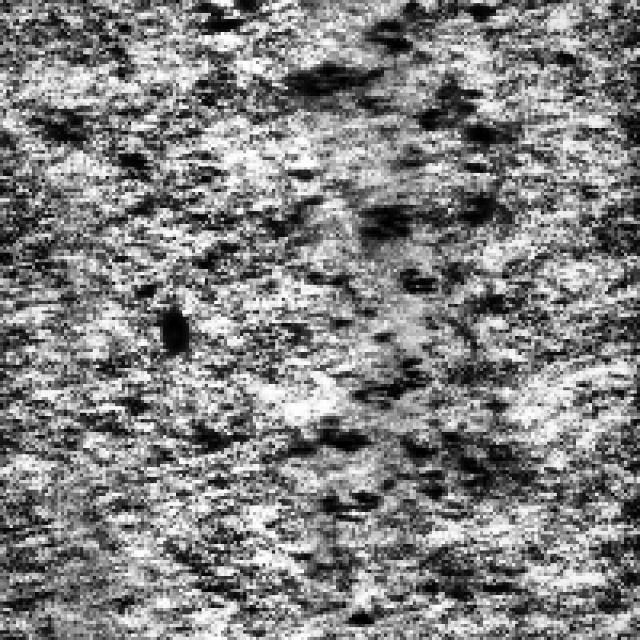Crazing: (272, 26, 490, 516)
